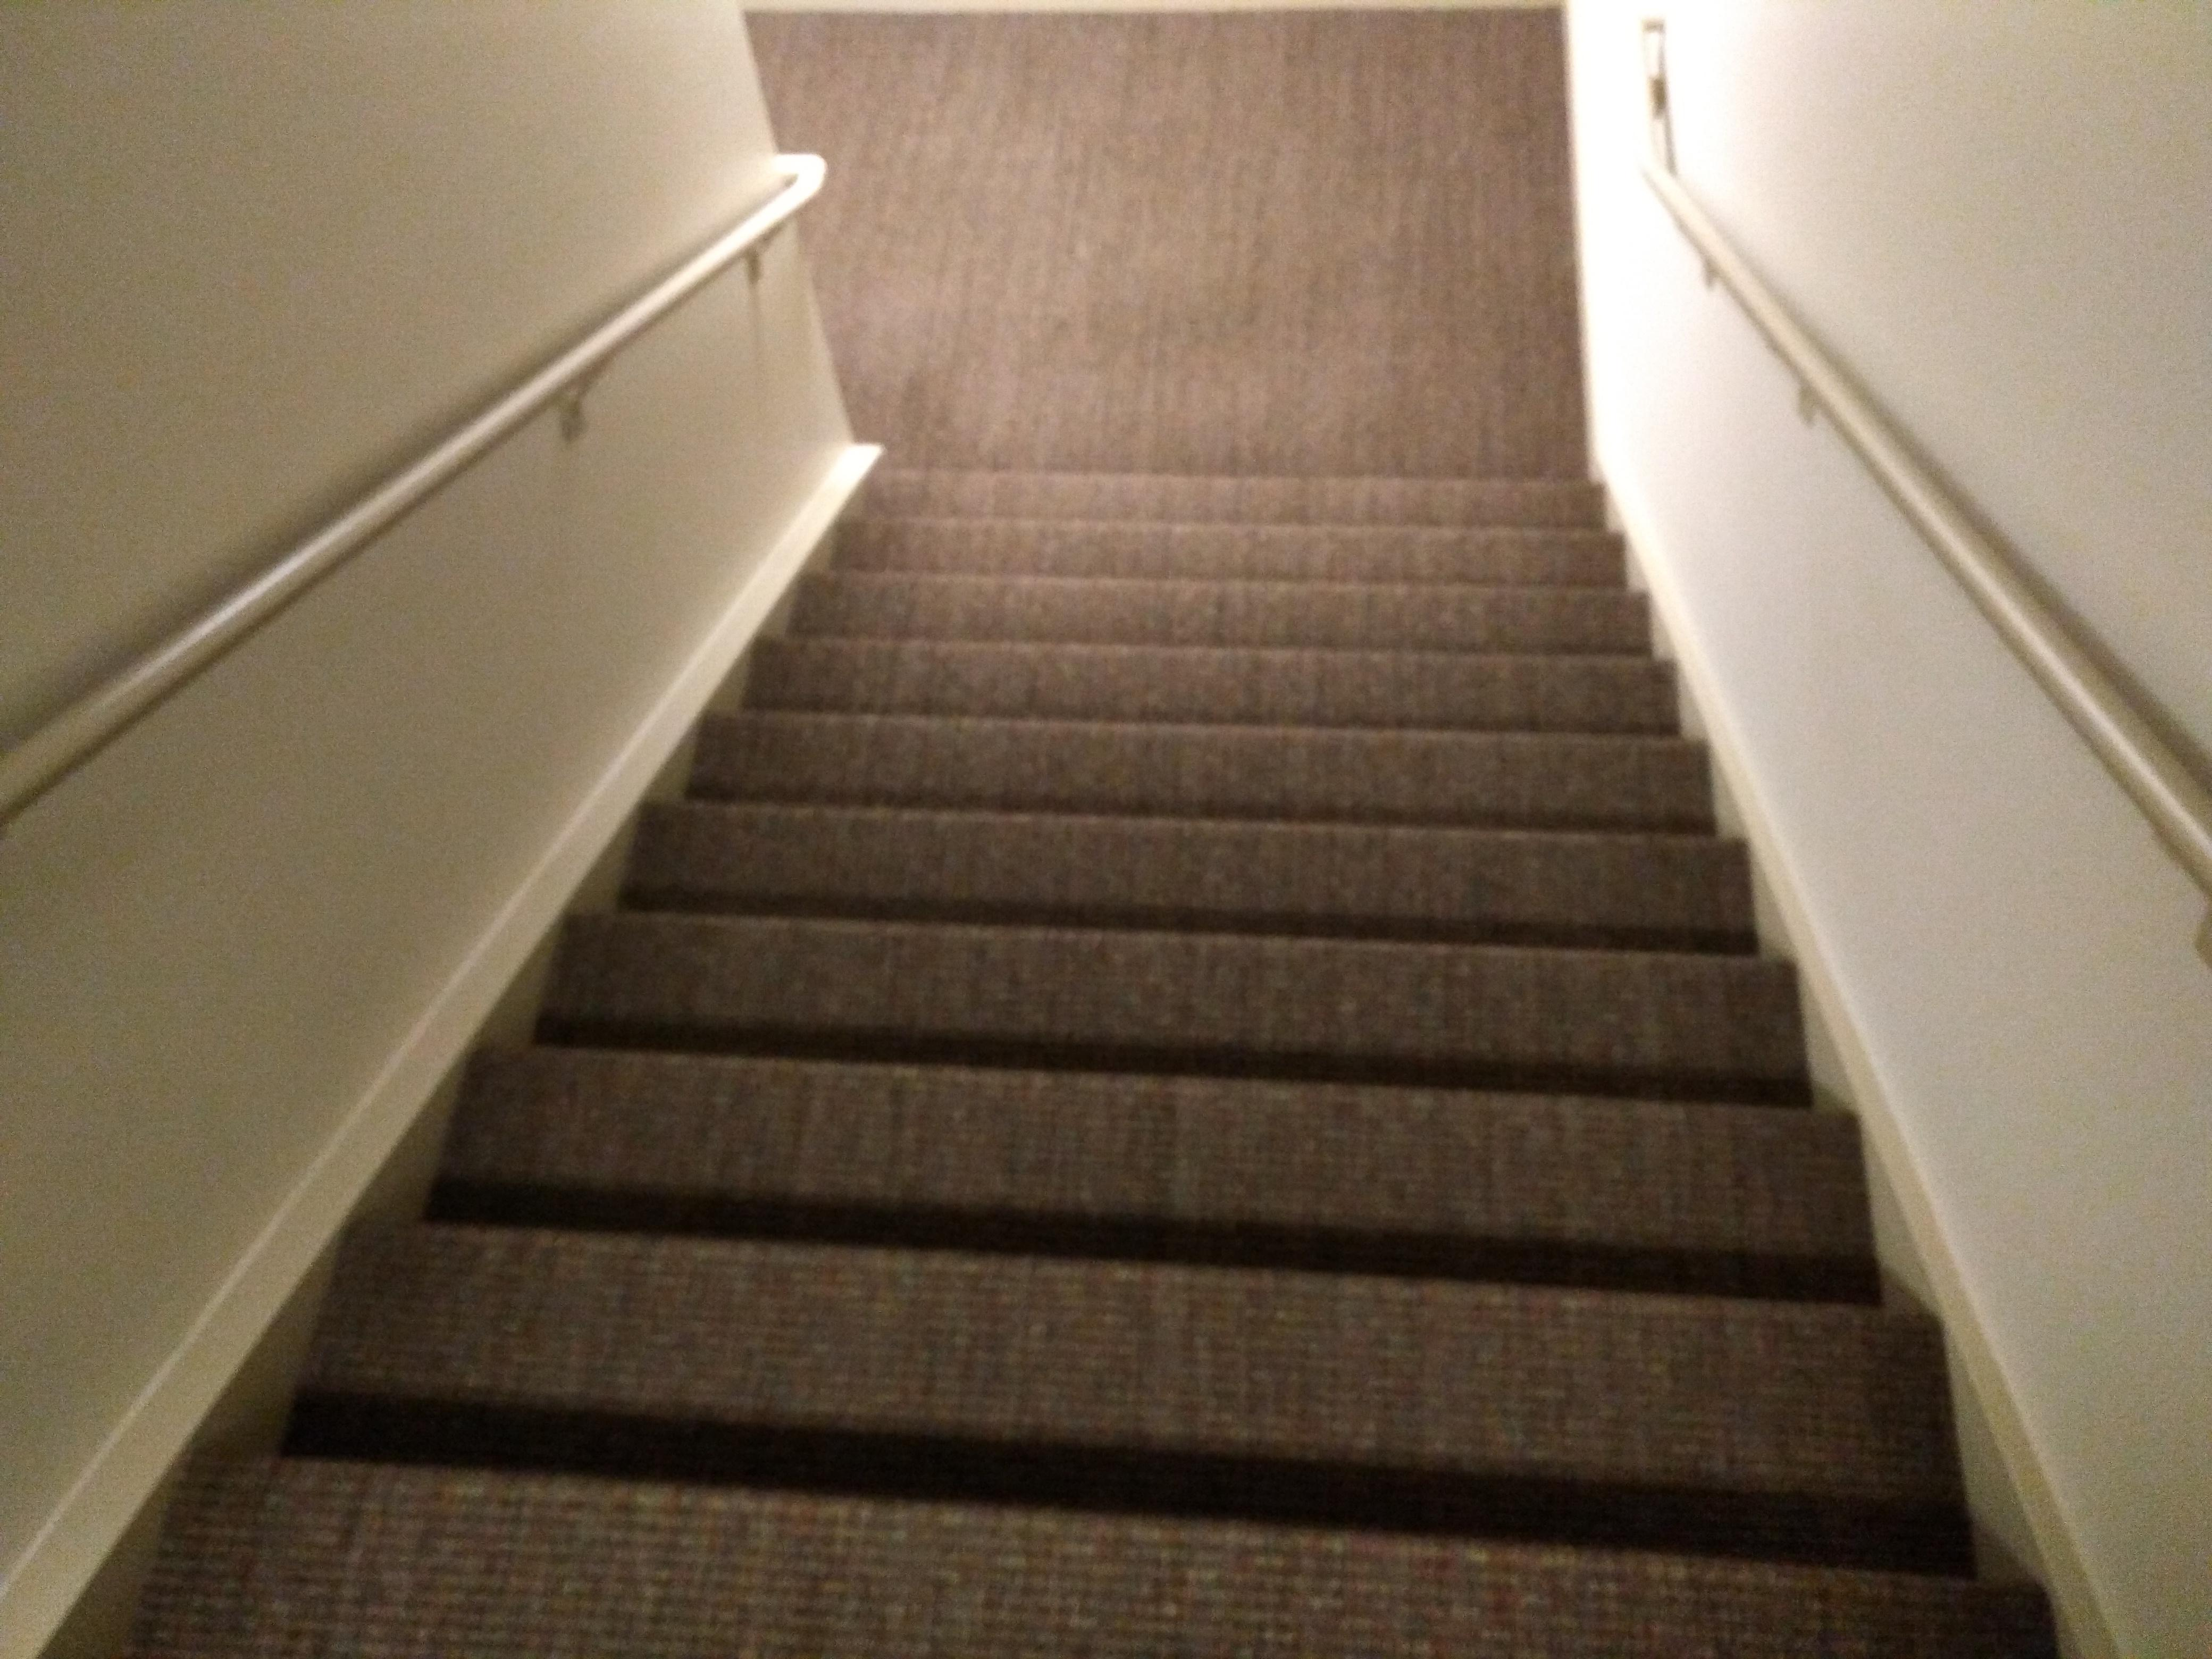stairs_down: (172, 443, 2069, 1650)
